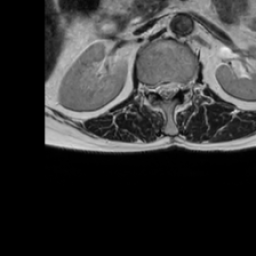CCS_normal: (163, 74, 170, 106)
LFS_normal: (179, 75, 186, 96)
LLS_normal: (170, 74, 178, 101)
RFS_normal: (148, 77, 155, 101)
RLS_normal: (155, 77, 163, 102)
